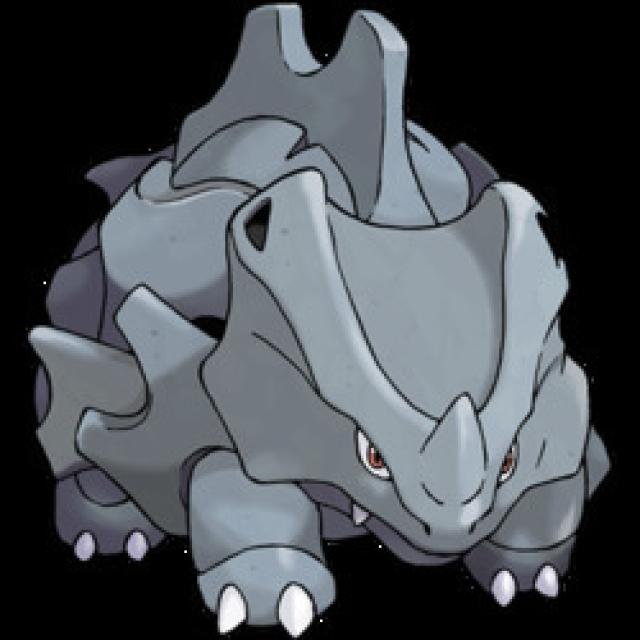Rhyhorn: (41, 127, 597, 575)
